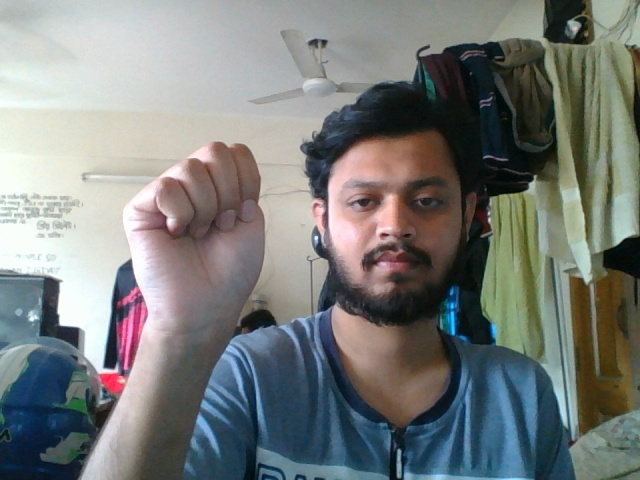to: (113, 131, 275, 380)
